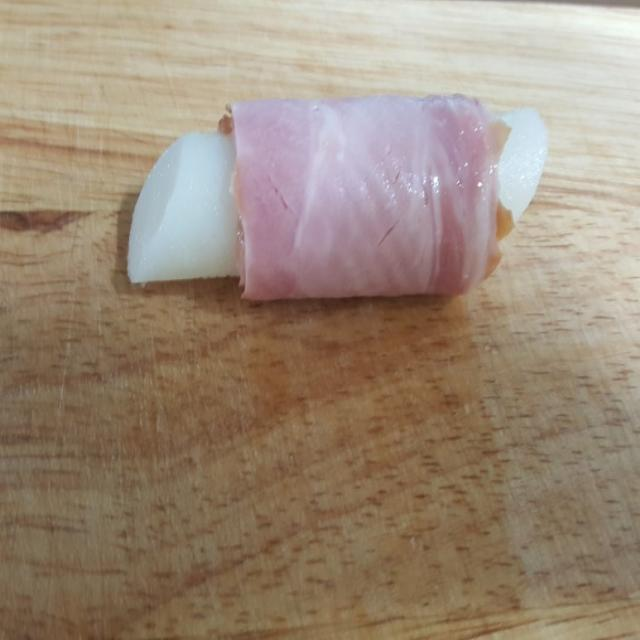bacon: (232, 95, 501, 300)
